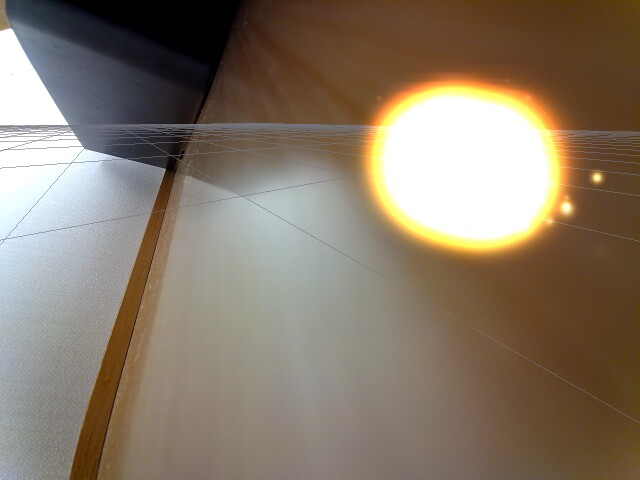fire: (361, 79, 570, 251)
